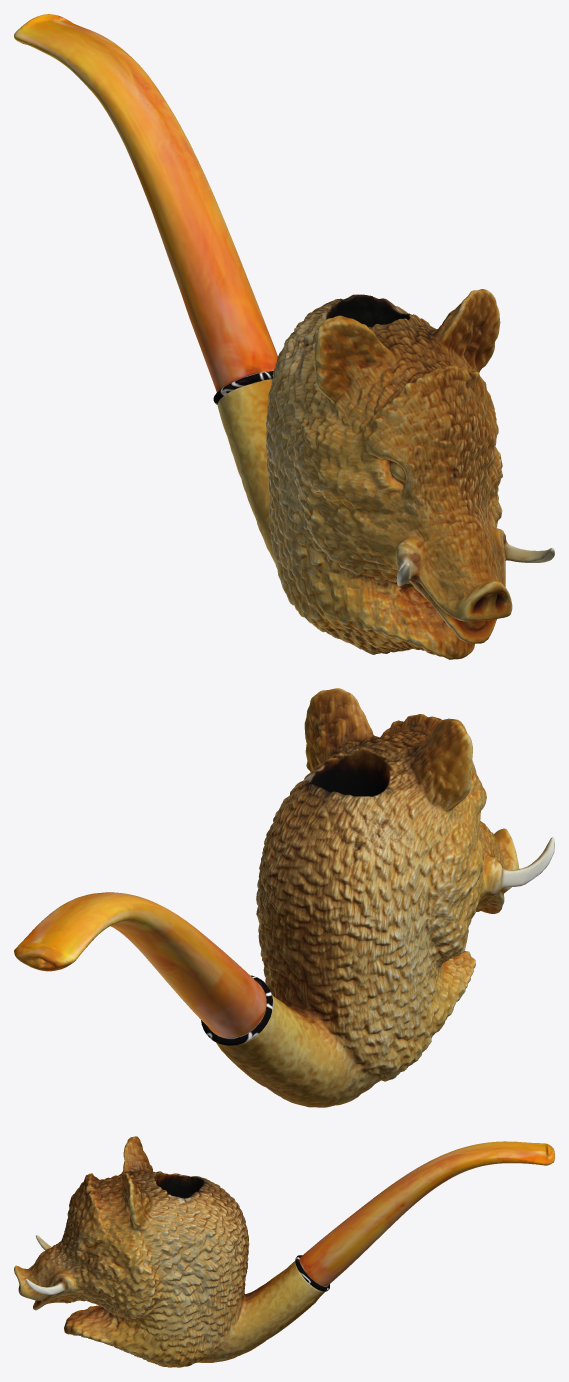
File: pipo.glb
3 renders of one model, top to bottom at view 1: azimuth 30°, elevation 25°; view 2: azimuth 150°, elevation 25°; view 3: azimuth 270°, elevation 25°, orthographic. The views are drawn at different scales.
Size of the model in its own units: 2.02 by 4.18 by 9.27.
Materials: 2 (2 with a texture image).
